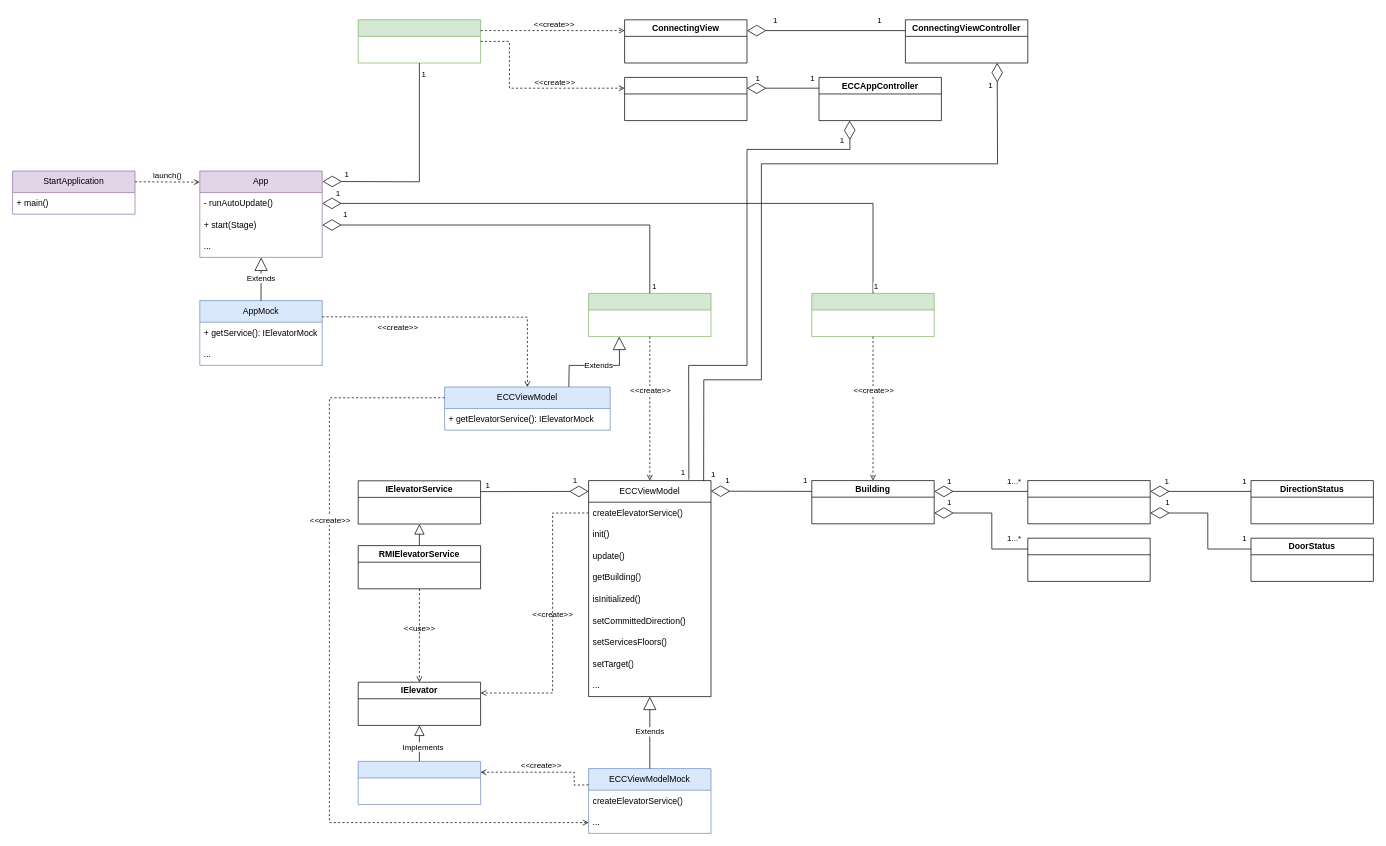
This 1386x846 diagram has some shape labels left out. The centre of each missing label's shape, as x and y in pixels:
ECCAppView: the point at 685,99
Elevator: the point at 1088,502
FloorButton: the point at 1088,559
IElevatorMock: the point at 419,783
ModelFactory: the point at 872,315
ViewHandler: the point at 419,41
ViewModelFactory: the point at 649,315
